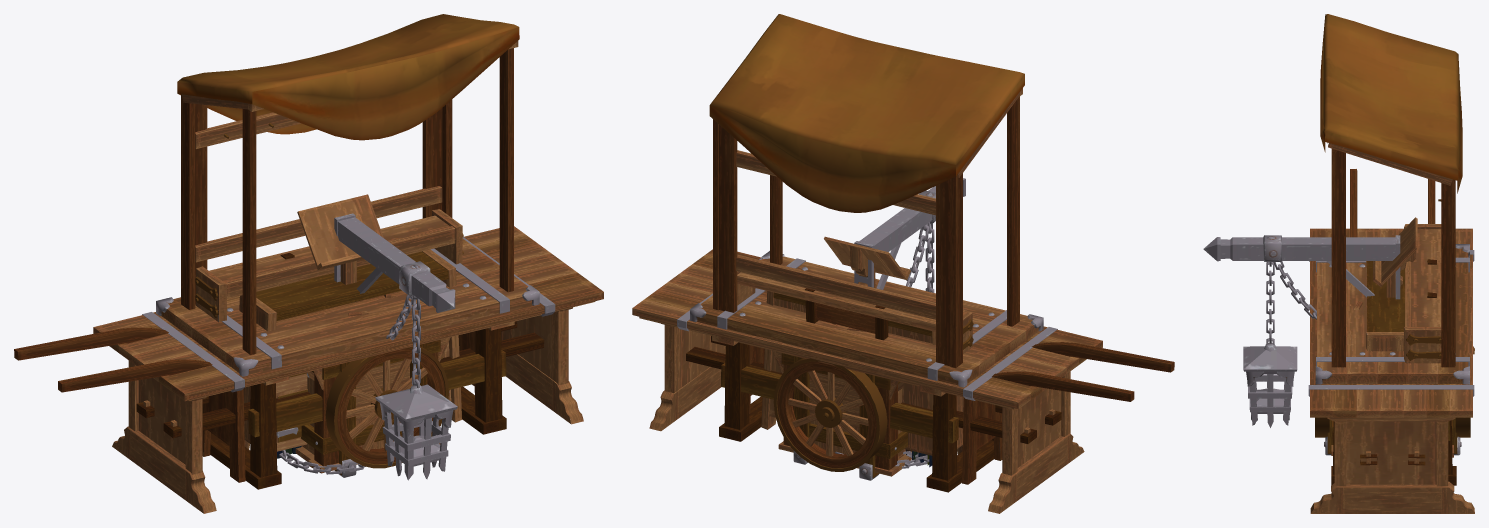
File: fantasy-props.glb
The picture shows the model from 3 angles, left to right: view 1: azimuth 30°, elevation 25°; view 2: azimuth 150°, elevation 25°; view 3: azimuth 270°, elevation 25°; orthographic projection. The views are drawn at different scales.
Visible parts, largest first — view 1: Stall_Cart_Empty, Table_Large, Workbench, Lantern_Wall, Cabinet, Crate_Wooden, BookStand, Chain_Coil; view 2: Stall_Cart_Empty, Table_Large, Workbench, Crate_Wooden, Lantern_Wall, Cabinet, BookStand, Chair_1; view 3: Stall_Cart_Empty, Table_Large, Workbench, Lantern_Wall, Cabinet, BookStand, Crate_Wooden.
Boxes of the visible parts, <box> form: Stall_Cart_Empty: <box>14,14,519,482</box>; Table_Large: <box>93,226,603,513</box>; Workbench: <box>156,238,539,489</box>; Lantern_Wall: <box>334,213,457,480</box>; Cabinet: <box>239,249,462,451</box>; Crate_Wooden: <box>295,339,440,477</box>; BookStand: <box>297,194,383,284</box>; Chain_Coil: <box>279,450,365,474</box>; Stall_Cart_Empty: <box>709,14,1174,484</box>; Table_Large: <box>632,249,1102,513</box>; Workbench: <box>690,251,1043,492</box>; Crate_Wooden: <box>778,353,911,480</box>; Lantern_Wall: <box>854,178,965,292</box>; Cabinet: <box>761,268,966,455</box>; BookStand: <box>824,236,910,287</box>; Chair_1: <box>804,288,888,340</box>; Stall_Cart_Empty: <box>1315,14,1470,437</box>; Table_Large: <box>1308,228,1474,513</box>; Workbench: <box>1315,244,1469,485</box>; Lantern_Wall: <box>1203,235,1400,427</box>; Cabinet: <box>1366,261,1404,351</box>; BookStand: <box>1373,217,1417,297</box>; Crate_Wooden: <box>1324,418,1461,457</box>.
Bounding box in the file's own units: 3.53 × 2.84 × 1.79.
Materials: 5 (5 with a texture image).
